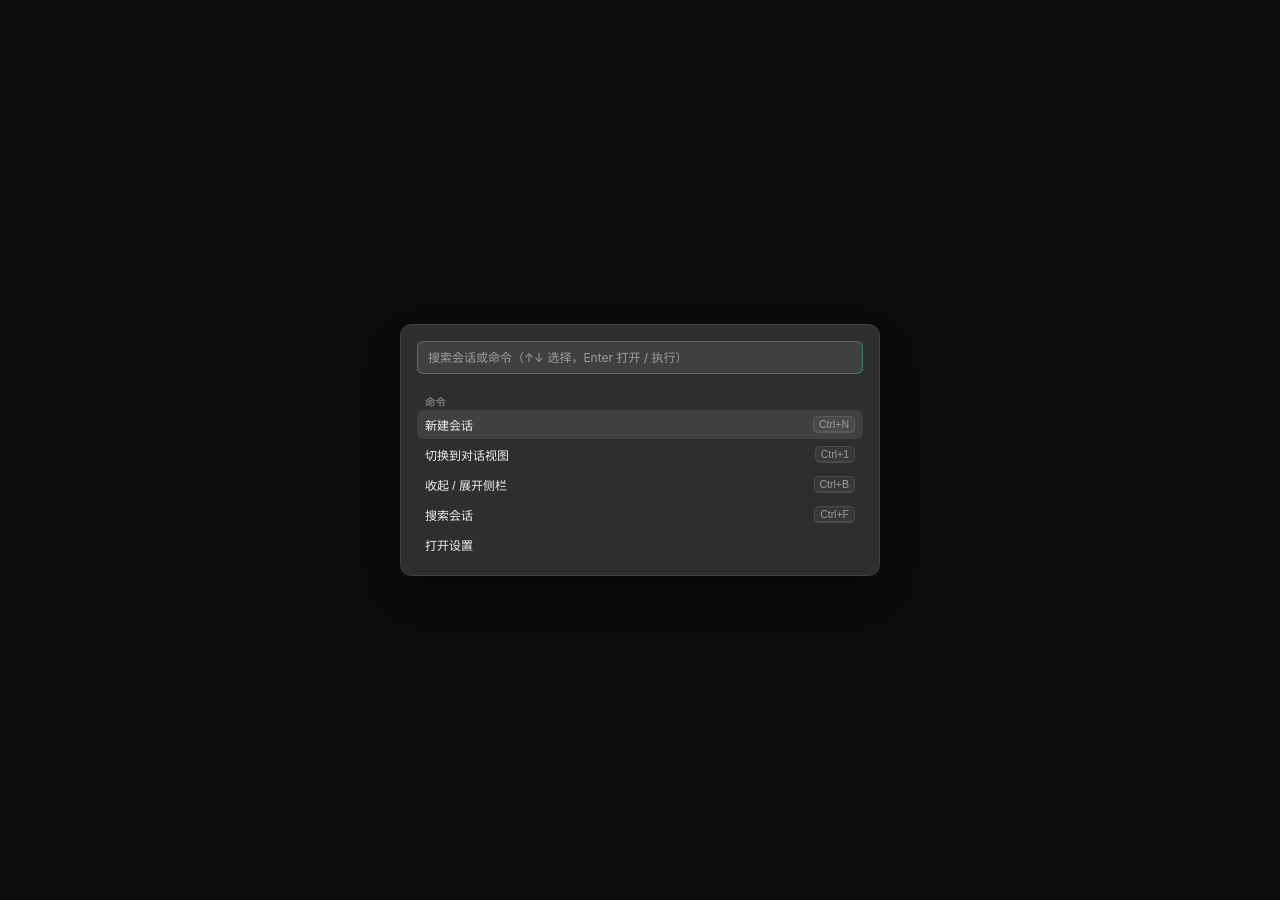
QuickSwitcher 命令面板（U1-14） › 输入查询同时过滤会话（下沉后端 search）与命令（客户端子串）
// 命令过滤即时生效：只剩标签含「视图」的命令。
Type "视图" into the field. click: (640, 358)
box: [417,341,863,374]
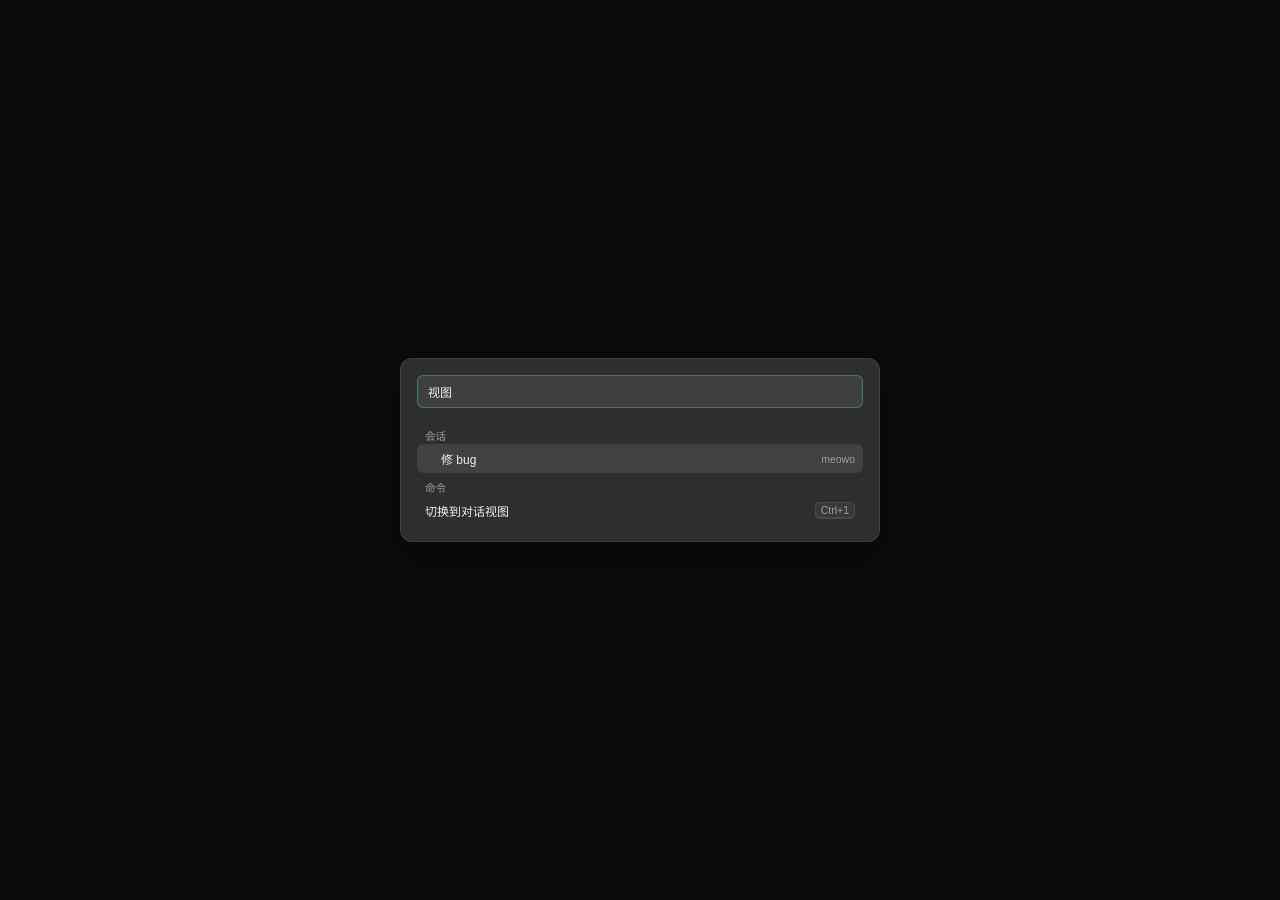
expect the option "切换到对话视图 Ctrl+1" is shown: met, box [417,496,863,525]
expect the option "新建会话" is gone: met
